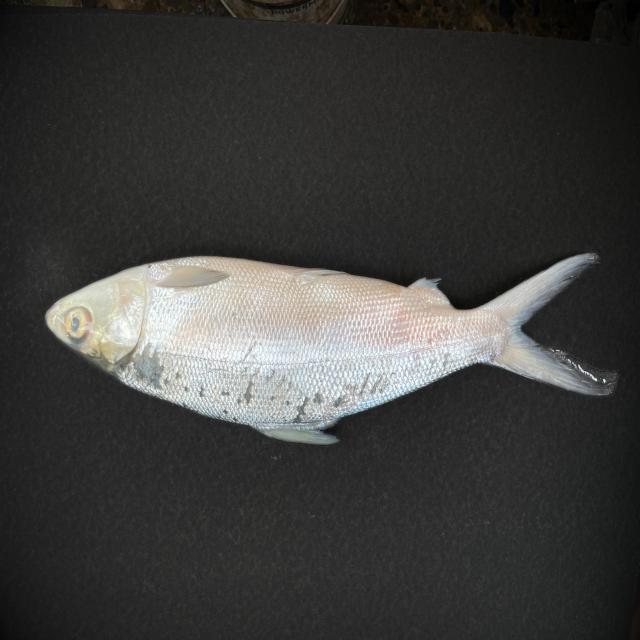1040 g: (45, 253, 616, 445)
